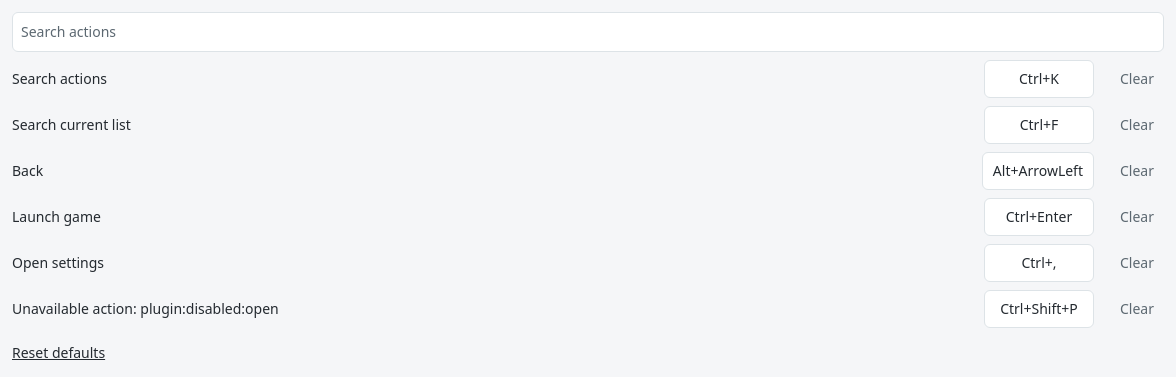
Test case: shows a saved binding for an unavailable action and clears it individually
Click the button with aria-label "Clear Unavailable action: plugin:disabled:open". click: (1137, 309)
box: [1110, 291, 1164, 327]
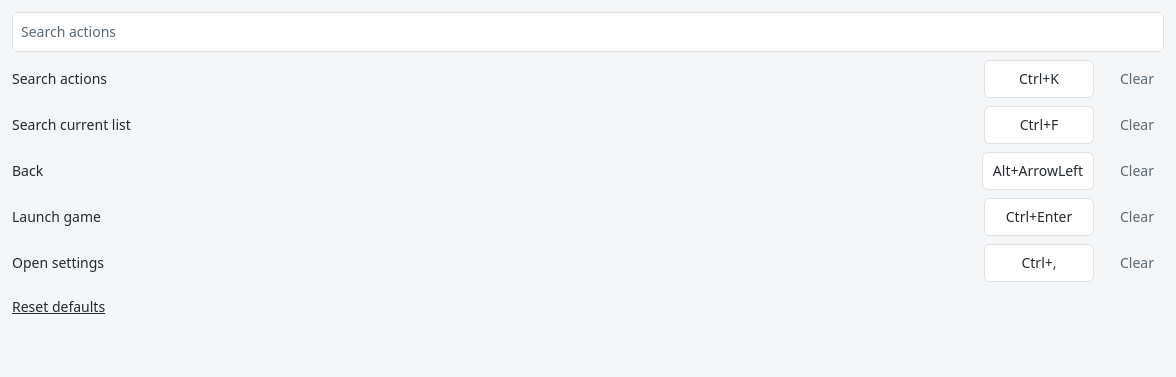
Now the text "plugin:disabled:open" is gone
